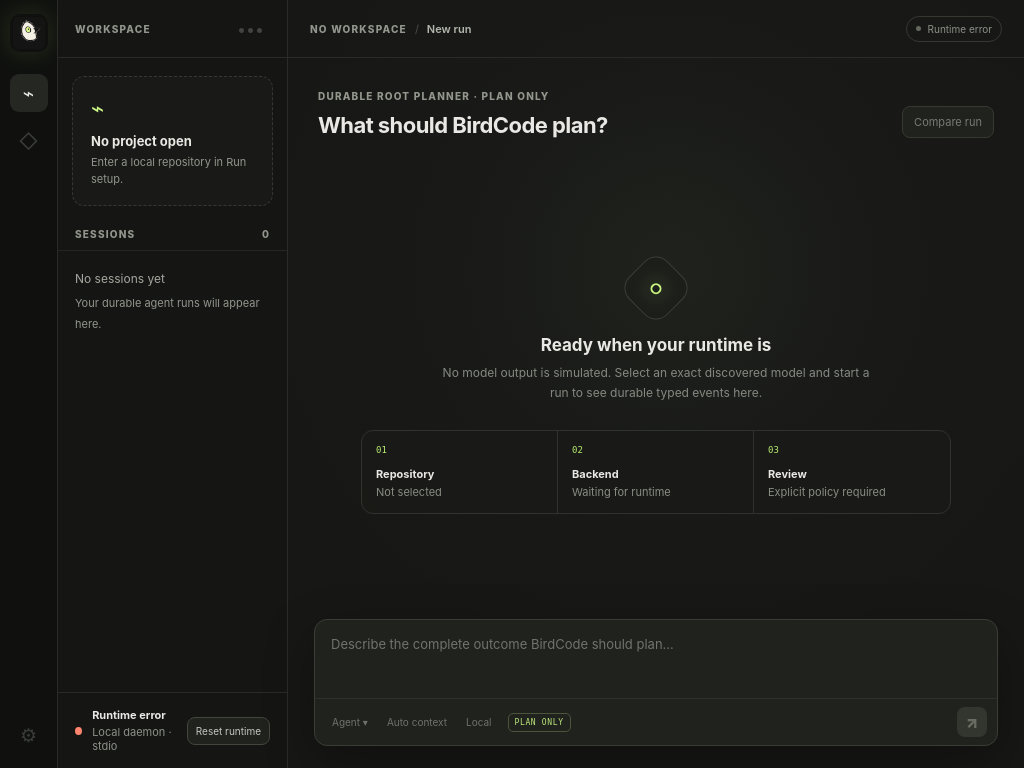
Scenario: offers an explicit runtime reset and checks health again immediately
What coordinates should you click on to do the following:
click the button "Reset runtime"
I would click on:
 (228, 730)
Its box is [187,716,270,744].
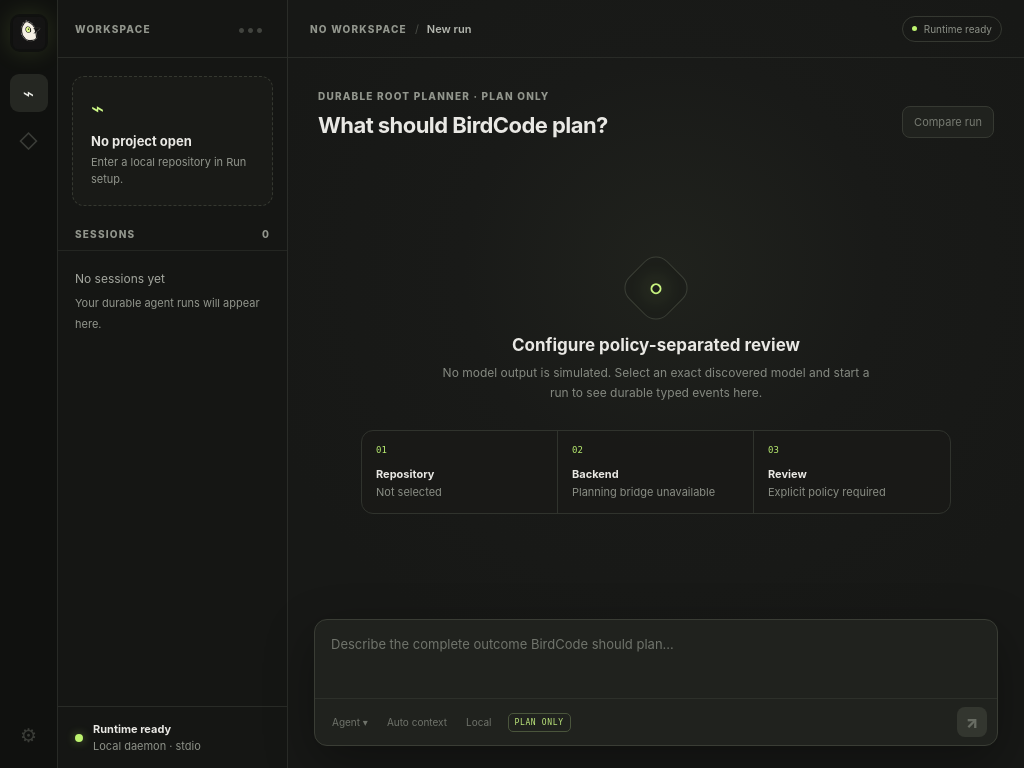
Check: the 2nd text "Runtime ready" is shown, box [93,722,171,736]
